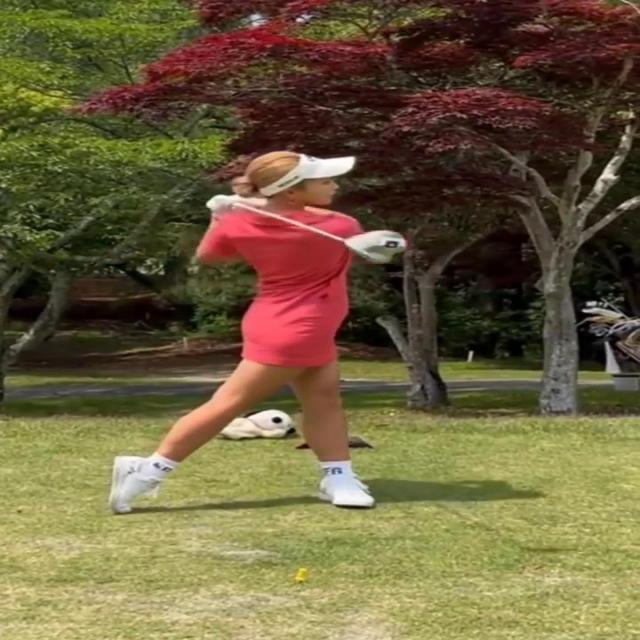ClubHead: (342, 230, 405, 262)
